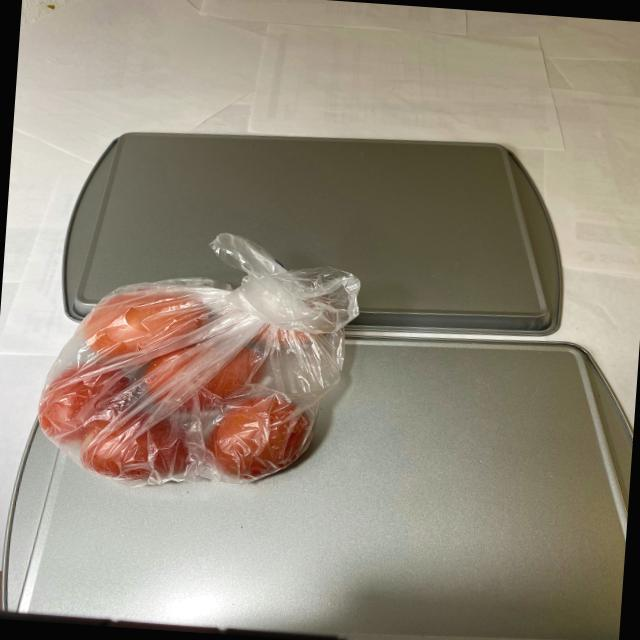tomato: (29, 267, 352, 496)
